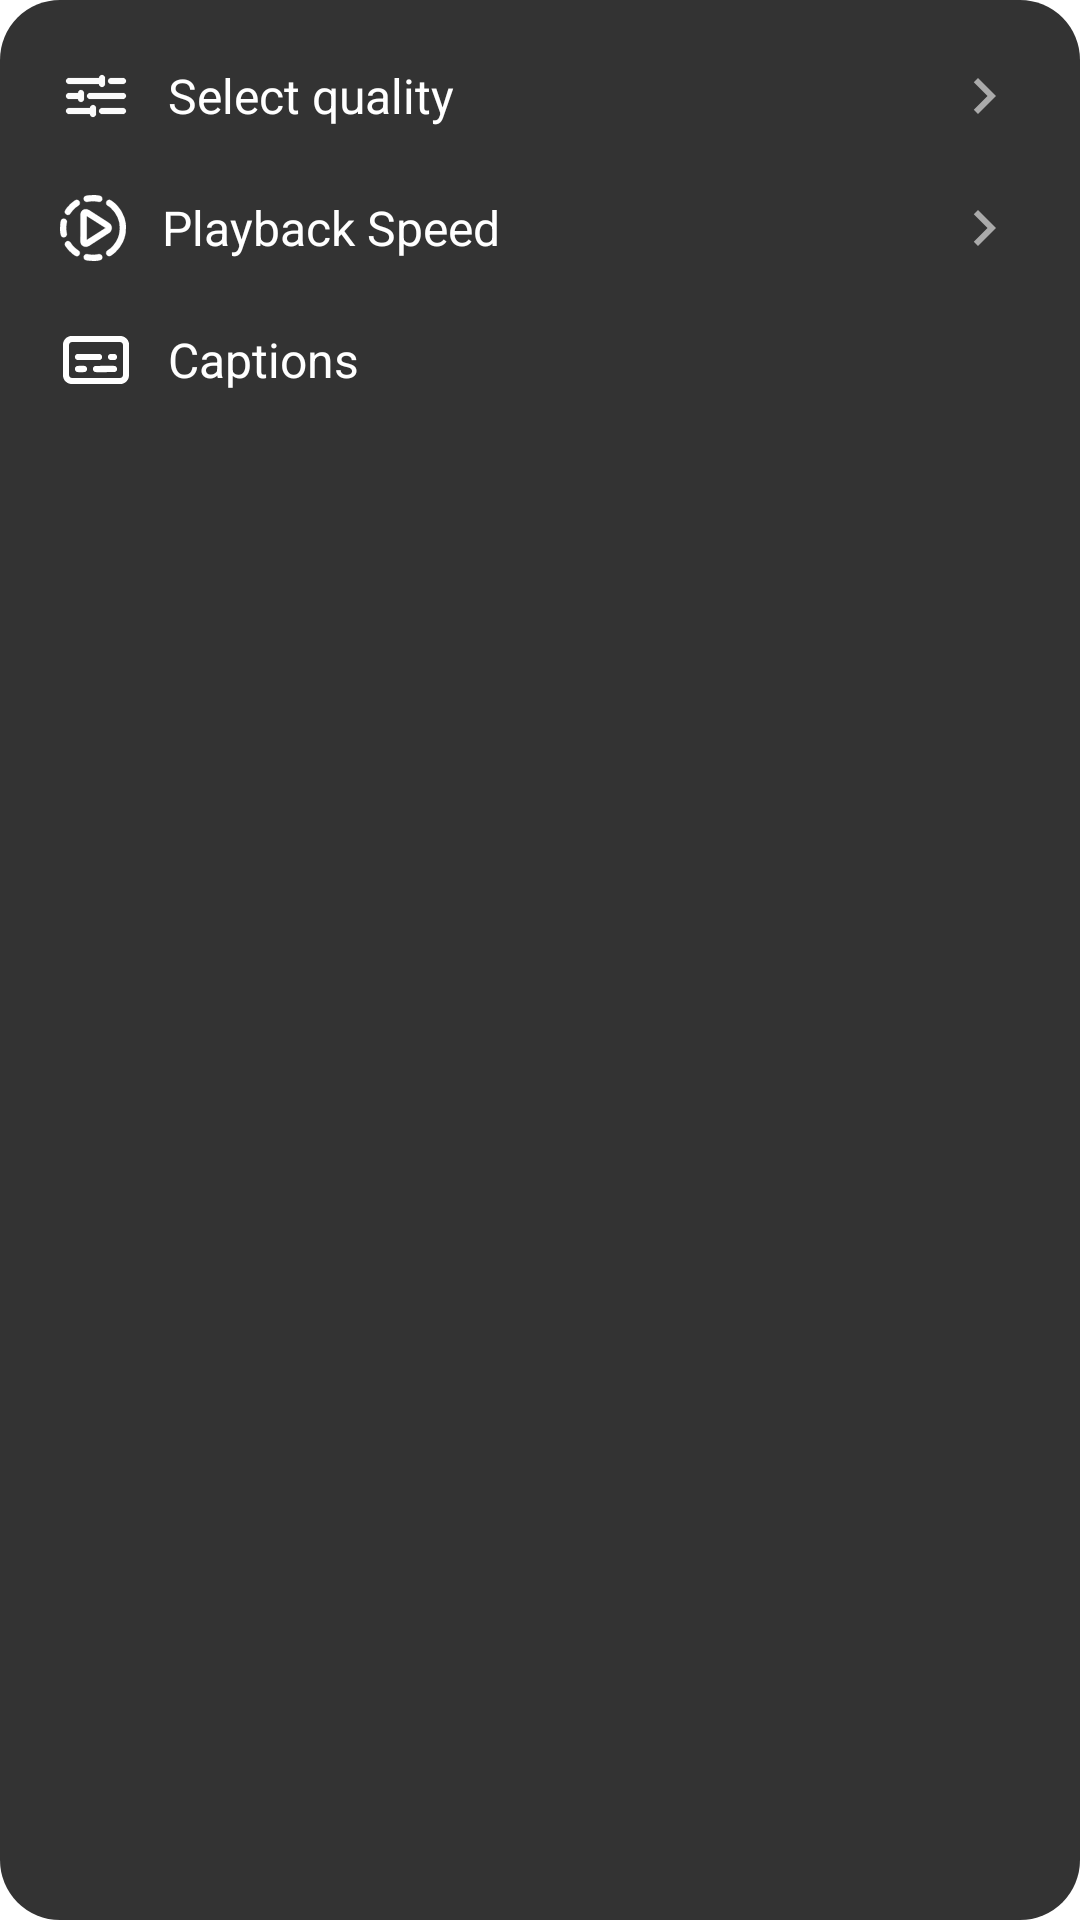

Screen size 1080*1920. Icon name, then its center in pixels as [x,y]:
Open: [985,96], [985,228]
